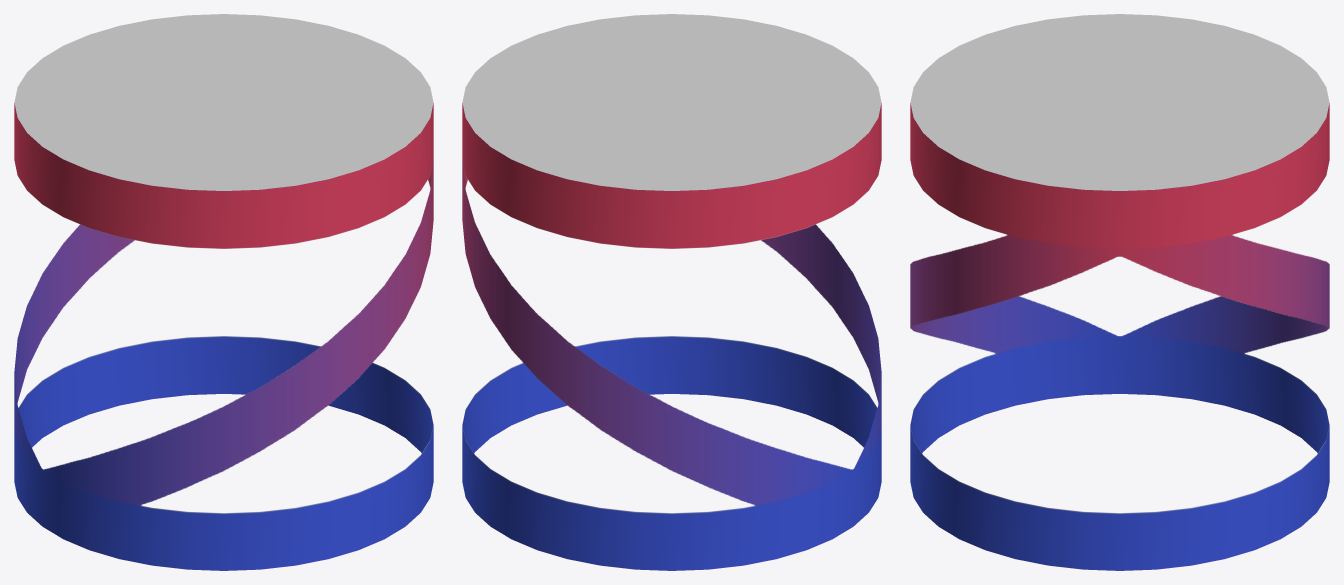
3 renders of one model, left to right at view 1: azimuth 30°, elevation 25°; view 2: azimuth 150°, elevation 25°; view 3: azimuth 270°, elevation 25°, orthographic.
Parts seen in each view (by area): view 1: Cylinder; view 2: Cylinder; view 3: Cylinder.
Part boxes in pixels (x1,y1,x2,y2): Cylinder: (14, 14, 433, 570); Cylinder: (462, 14, 881, 570); Cylinder: (910, 14, 1329, 570).
Bounding box in the file's own units: 300 × 300 × 300.
3 materials, 3 textured.
